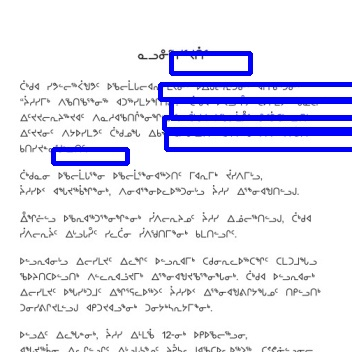inuktitut: (18, 93, 324, 110), (15, 125, 318, 141), (18, 77, 302, 92), (17, 111, 312, 123), (132, 43, 211, 63), (16, 142, 90, 156)
